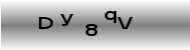8: (84, 23, 98, 36)
D: (37, 16, 54, 30)
V: (117, 15, 134, 31)
q: (103, 9, 118, 24)
y: (58, 12, 74, 27)
